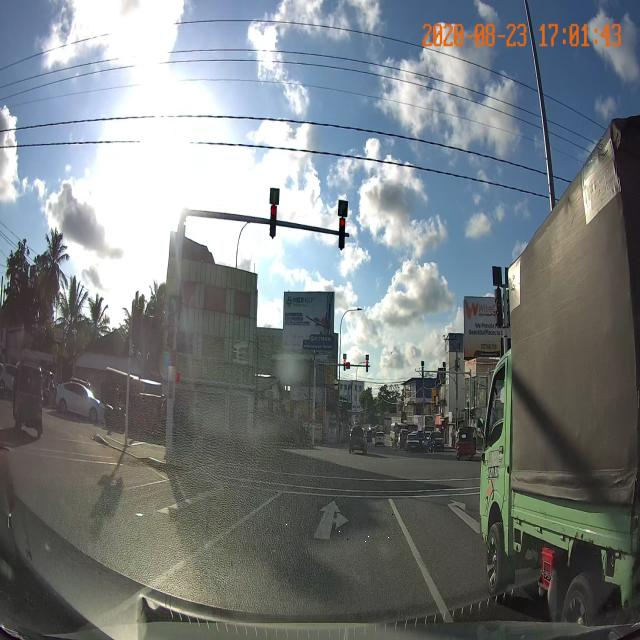forward_right: (202, 493, 426, 560), (203, 498, 426, 559), (202, 501, 426, 561)
